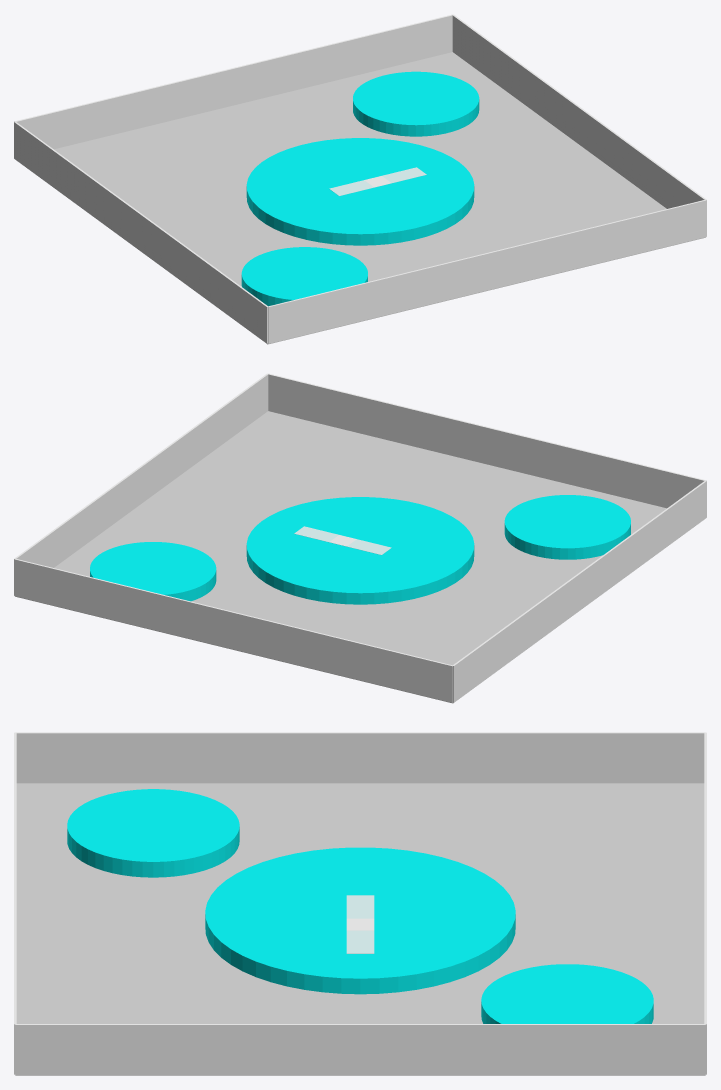
The picture shows the model from 3 angles, top to bottom: view 1: azimuth 30°, elevation 25°; view 2: azimuth 150°, elevation 25°; view 3: azimuth 270°, elevation 25°; orthographic projection. The views are drawn at different scales.
Parts seen in each view (by area): view 1: _dummylink0_ (×5), base (×3), Base; view 2: _dummylink0_ (×5), base (×3), Base; view 3: _dummylink0_ (×5), base (×3), Base, Arm0.
Boxes of the visible parts, <box> form: _dummylink0_ (×5): <box>14,14,706,344</box>; base (×3): <box>241,71,479,306</box>; Base: <box>329,178,390,195</box>; _dummylink0_ (×5): <box>14,373,706,703</box>; base (×3): <box>90,495,630,604</box>; Base: <box>330,537,391,554</box>; _dummylink0_ (×5): <box>14,732,706,1075</box>; base (×3): <box>67,789,653,1023</box>; Base: <box>346,895,374,930</box>; Arm0: <box>346,930,374,953</box>.
Bounding box in the file's own units: 5.02 × 5.02 × 0.7263.
